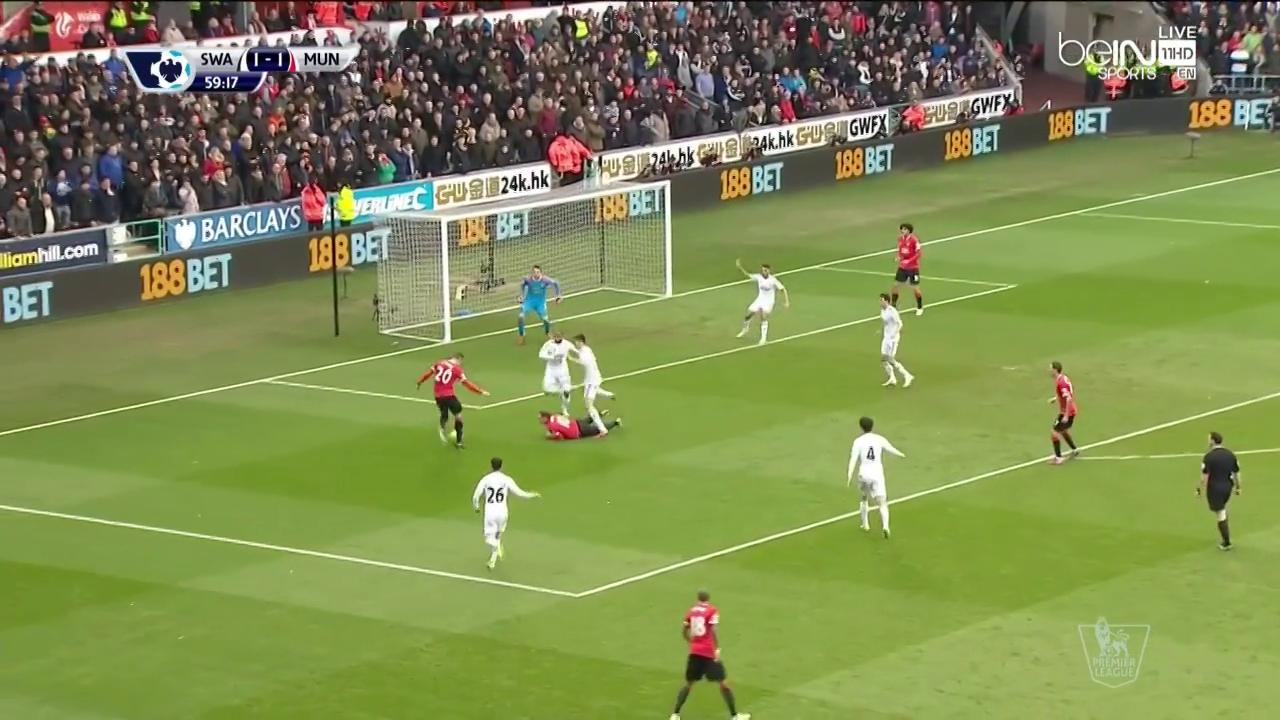football: (449, 429, 463, 442)
